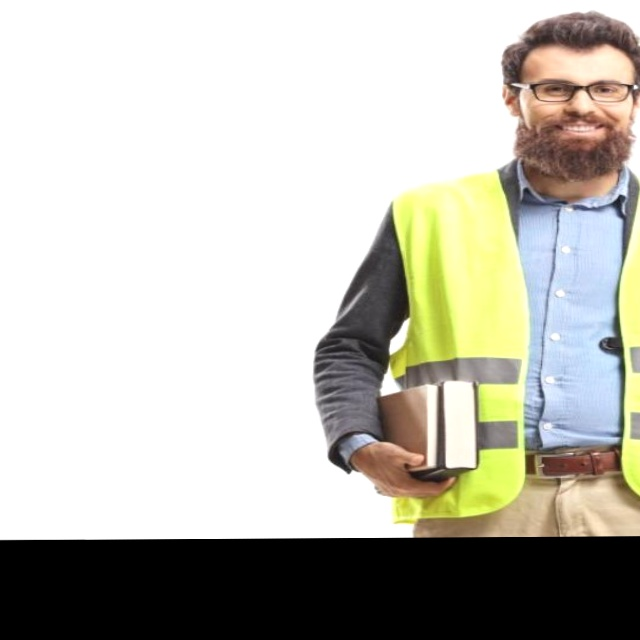Con_Chaleco: (383, 169, 640, 489)
Sin_Casco_Mascarrilla: (493, 9, 640, 174)
